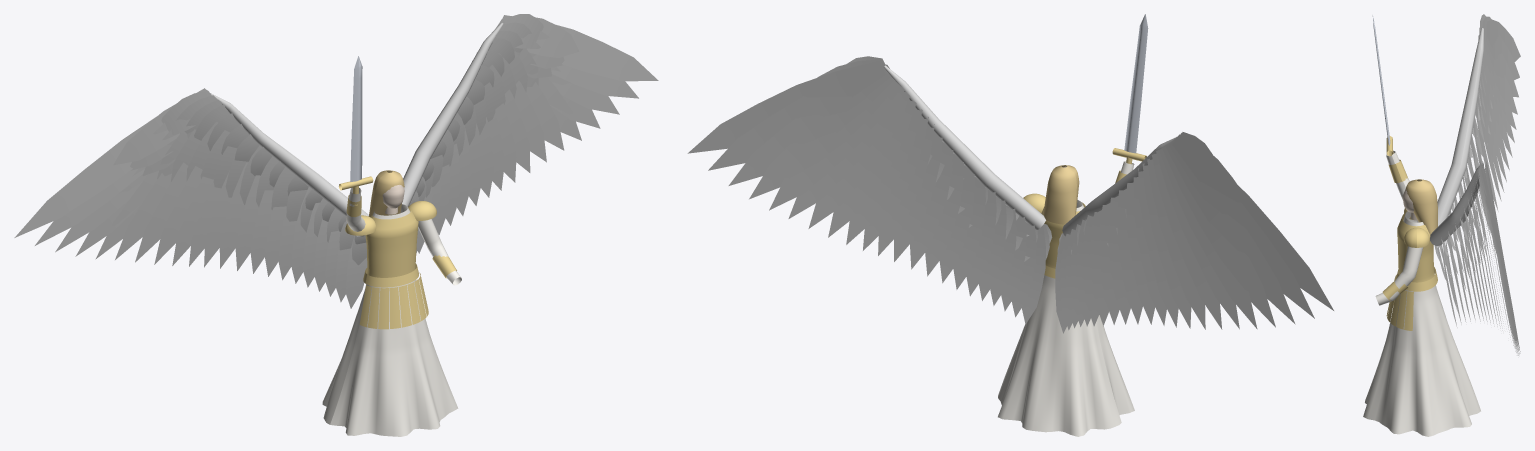
The model's file is patron.glb.
3 renders of one model, left to right at view 1: azimuth 30°, elevation 25°; view 2: azimuth 150°, elevation 25°; view 3: azimuth 270°, elevation 25°, orthographic. The views are drawn at different scales.
Parts seen in each view (by area): view 1: Patron; view 2: Patron; view 3: Patron.
Boxes of the visible parts, bbox=[...] form: Patron: bbox=[14, 14, 658, 436]; Patron: bbox=[687, 14, 1333, 436]; Patron: bbox=[1363, 14, 1520, 436].
Bounding box in the file's own units: 7.16 × 4.11 × 1.6.
